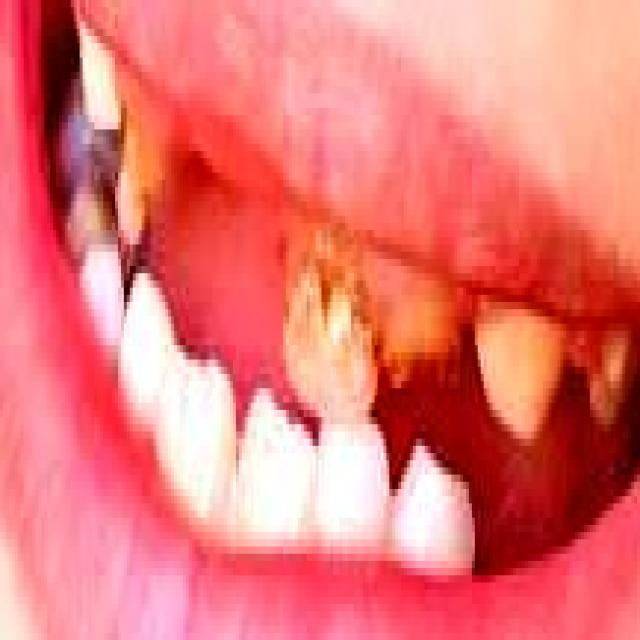caries: (285, 216, 373, 429), (380, 278, 466, 410), (110, 115, 170, 250)
